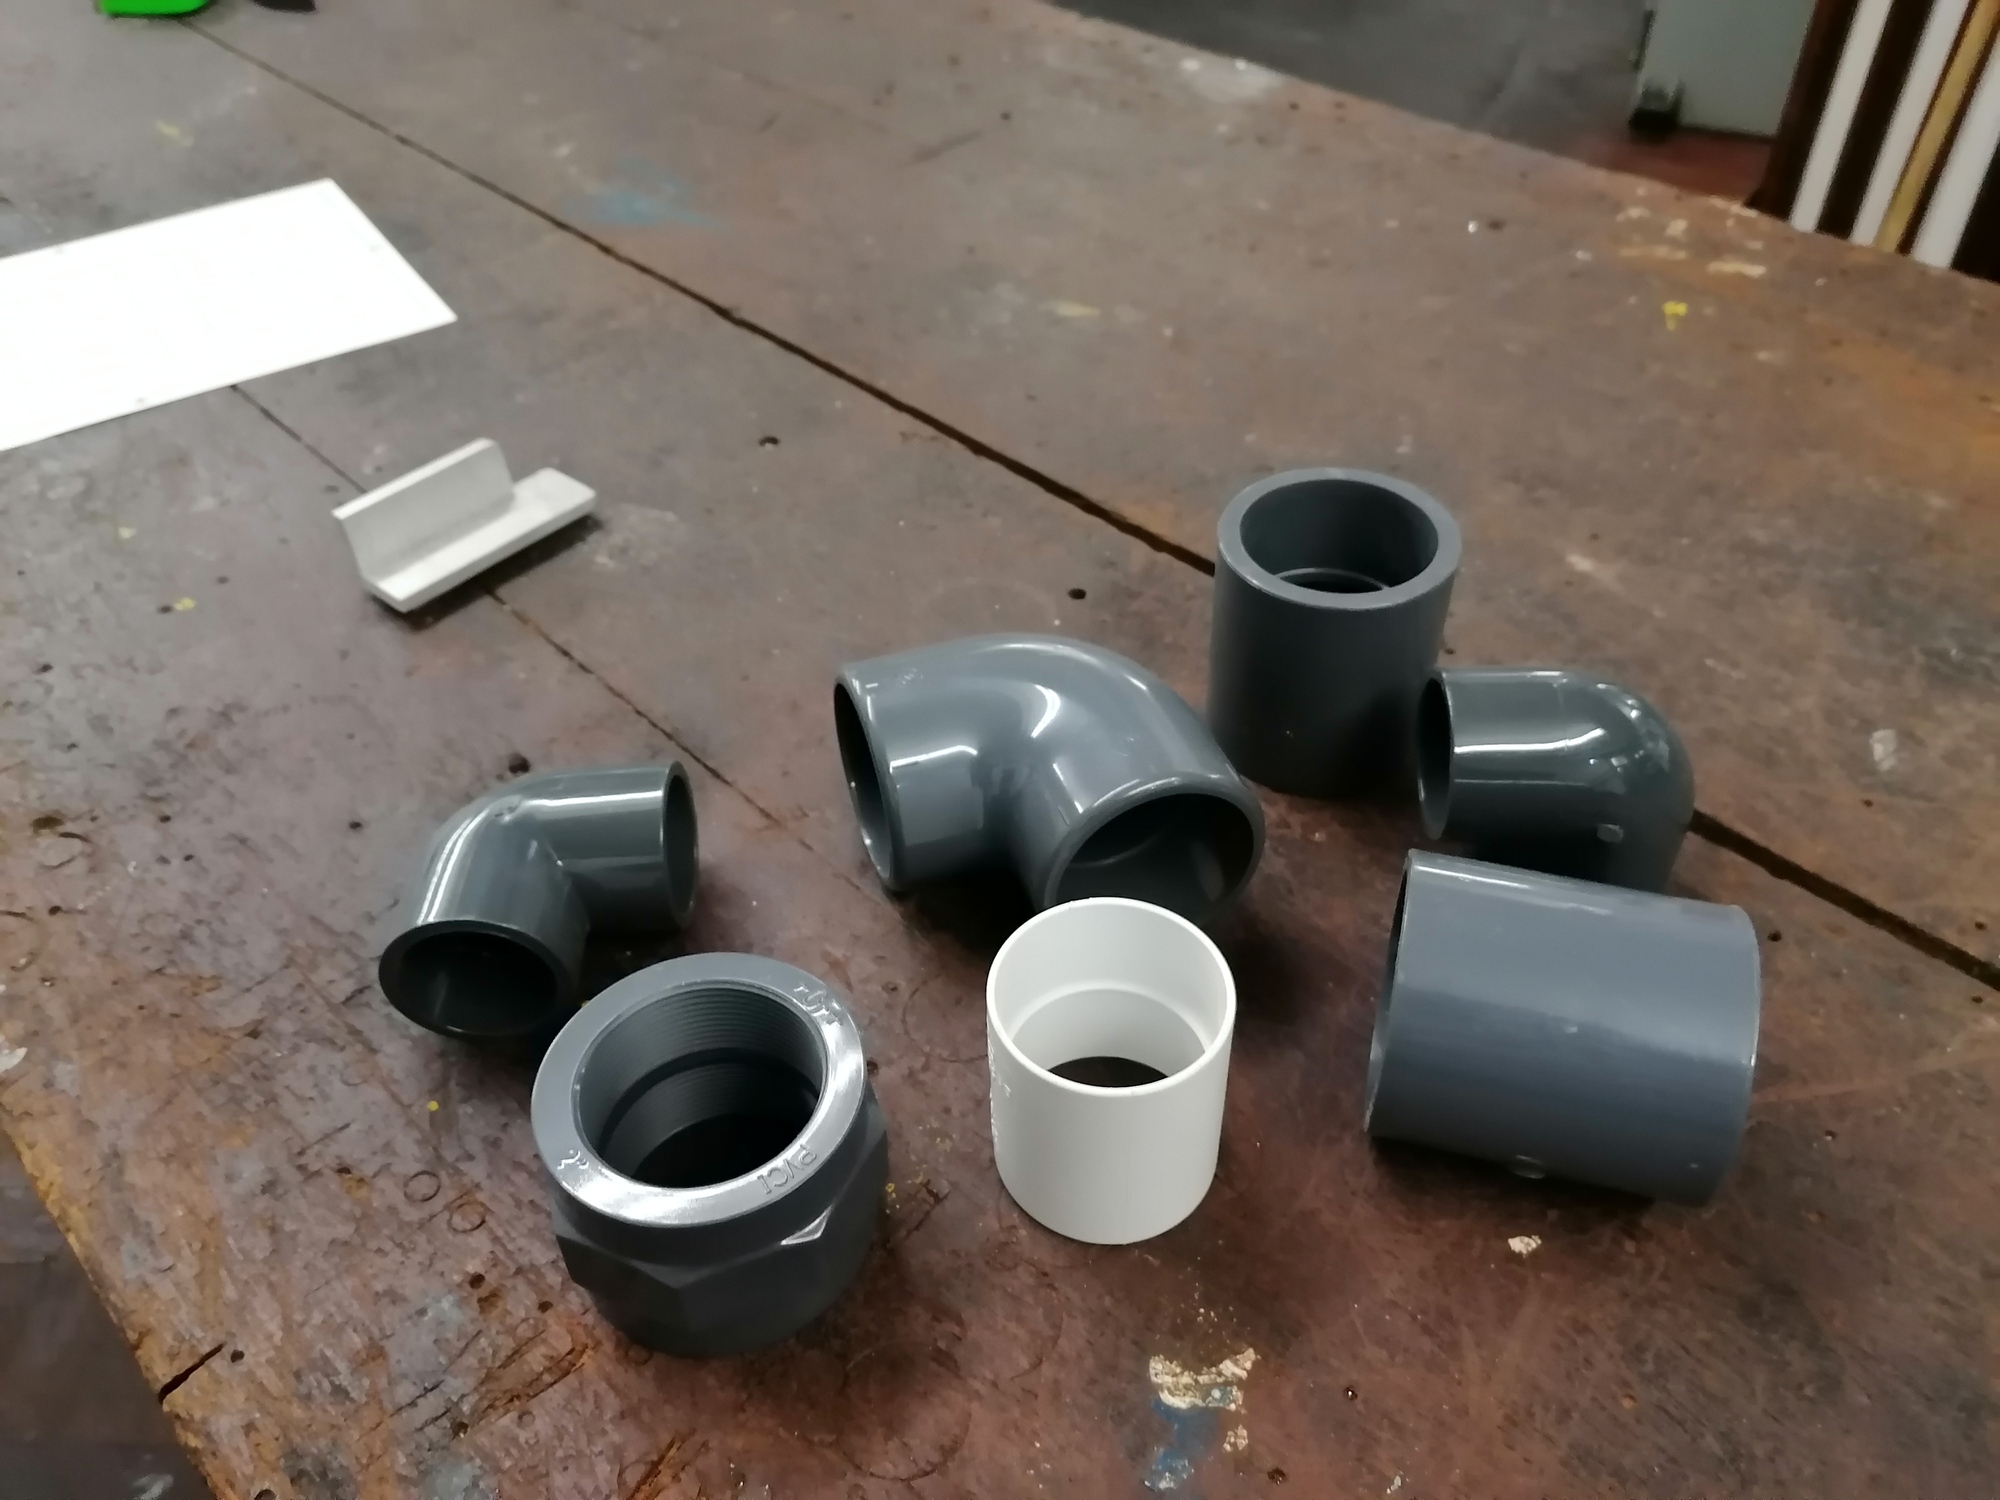bolt: (524, 944, 896, 1350), (1357, 849, 1765, 1212), (373, 748, 702, 1037), (981, 889, 1236, 1245)
pipe: (830, 637, 1268, 911), (1195, 462, 1468, 800), (1414, 660, 1702, 890)
